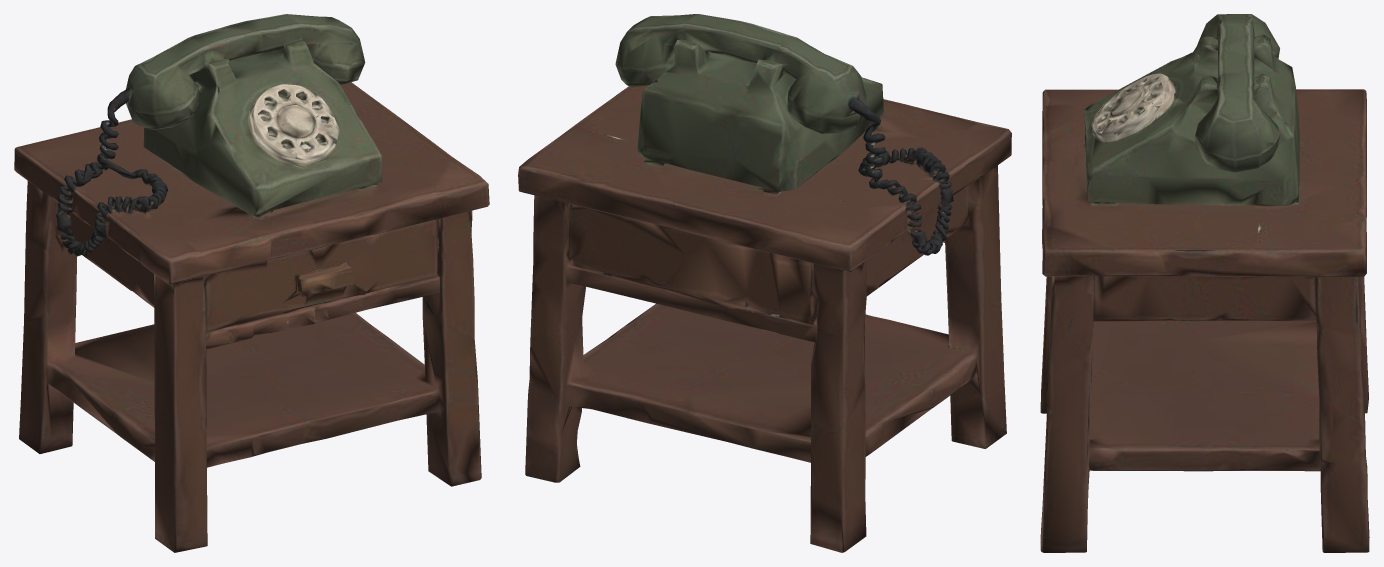
The model's file is phoneTableHQ.glb.
3 views of the same model, side by side, from view 1: azimuth 30°, elevation 25°; view 2: azimuth 150°, elevation 25°; view 3: azimuth 270°, elevation 25° (orthographic). The views are drawn at different scales.
Size of the model in its own units: 1.61 by 1.9 by 1.31.
1 material, 1 textured.
